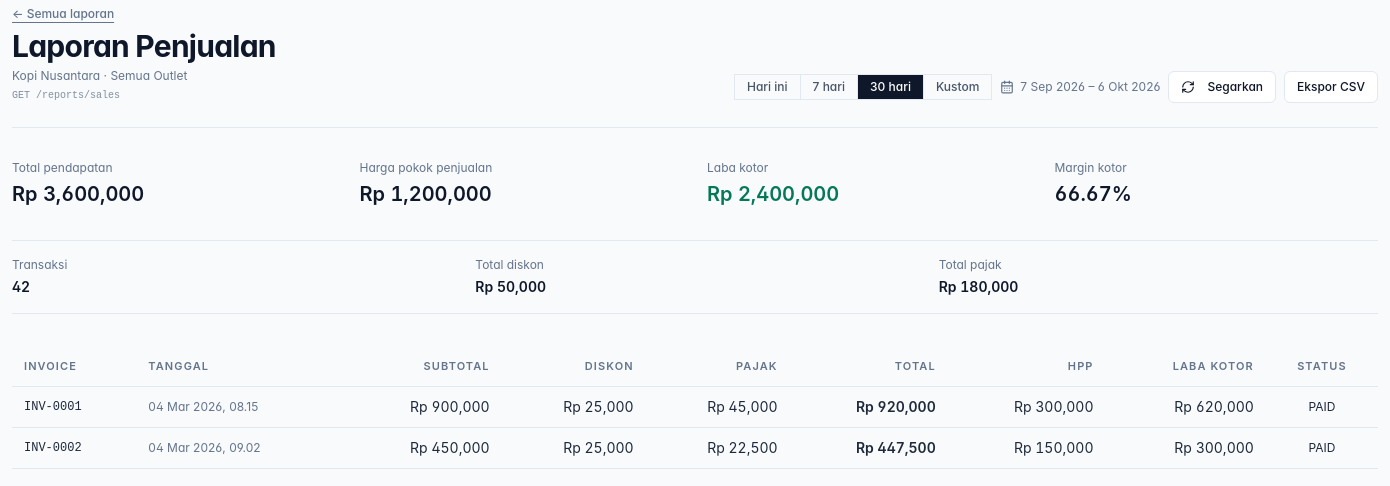
Phase 7 — Reports workspace › CSV export › requests a ticket, then downloads the bytes with the tenant headers
This screenshot has width=1390, height=486.
Check: the text "INV-0001" is shown, box left=12, top=386, right=136, bottom=428
Click the button "Ekspor CSV": (1331, 87) left=1284, top=71, right=1378, bottom=103
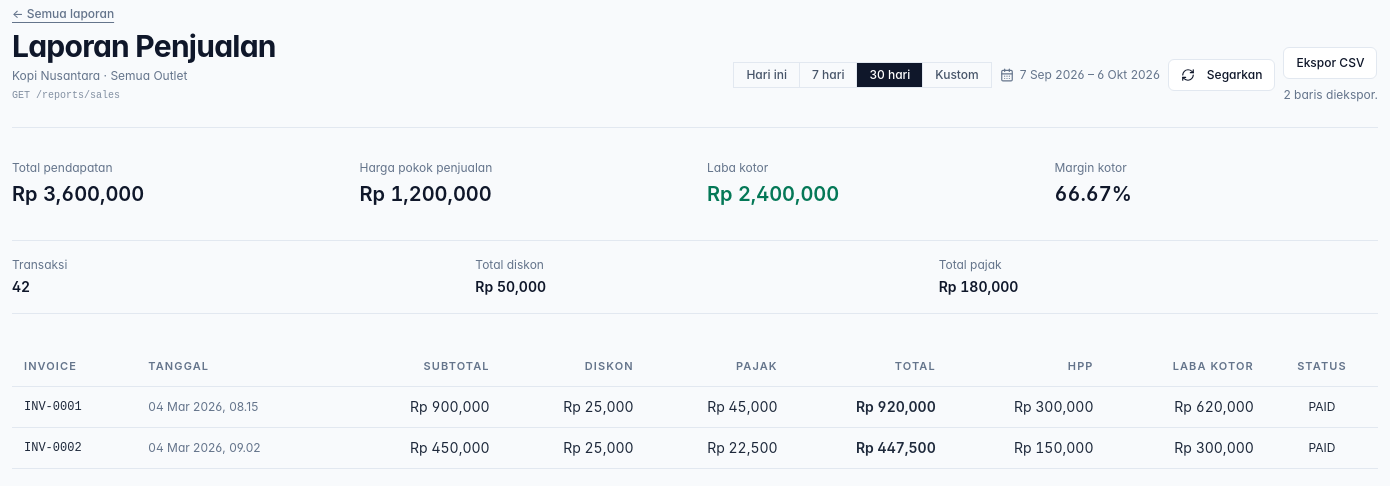
Check: the text "2 baris diekspor." is shown, box left=1283, top=87, right=1378, bottom=103
